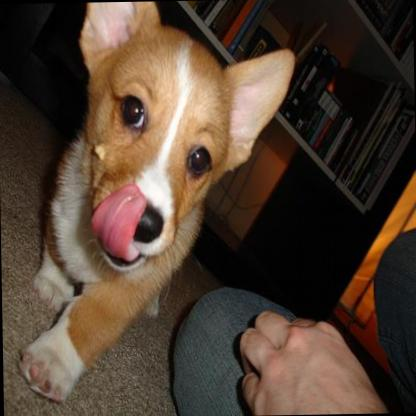Pembroke: (4, 0, 301, 408)
